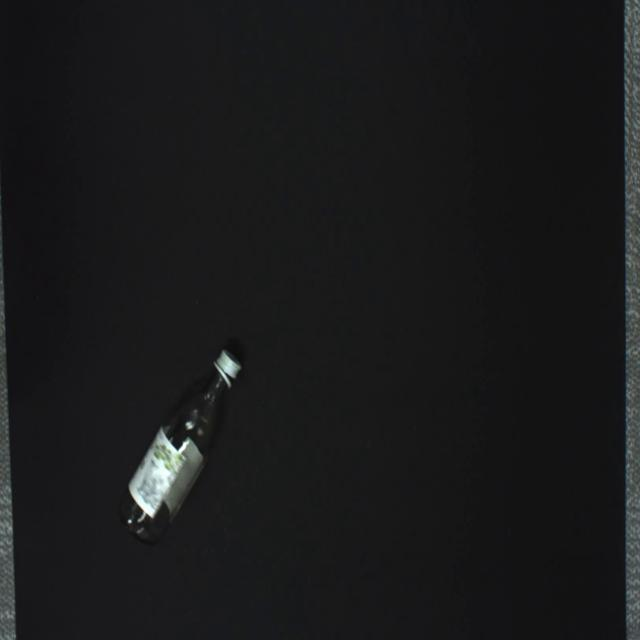soju-bottle: (117, 348, 242, 546)
